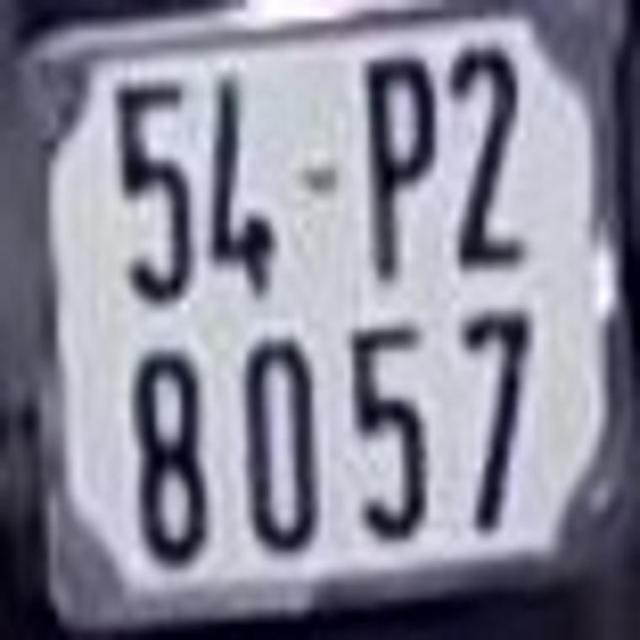0: (240, 333, 318, 550)
2: (453, 44, 535, 263)
4: (210, 75, 280, 296)
5: (110, 85, 190, 308), (350, 328, 432, 539)
7: (463, 314, 540, 543)
8: (129, 352, 210, 565)
P: (360, 52, 443, 286)
